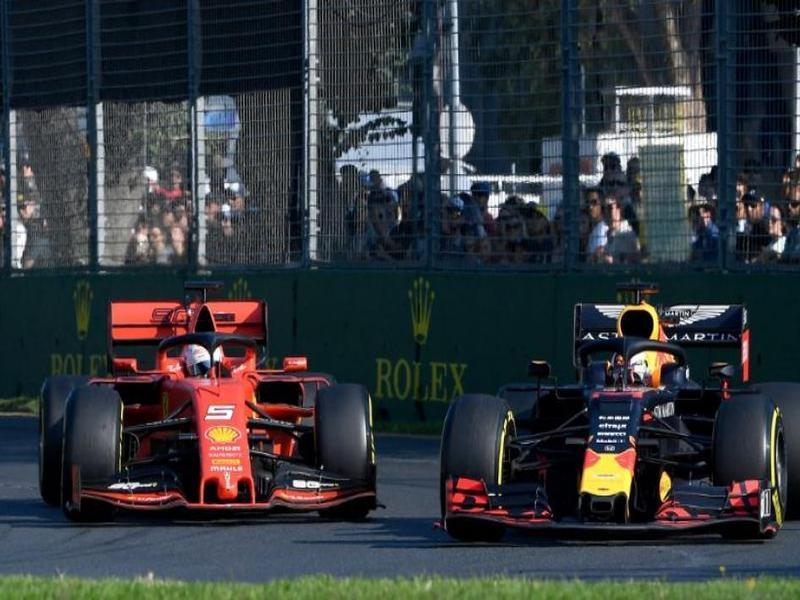f1: (443, 275, 800, 534), (22, 294, 398, 525)
